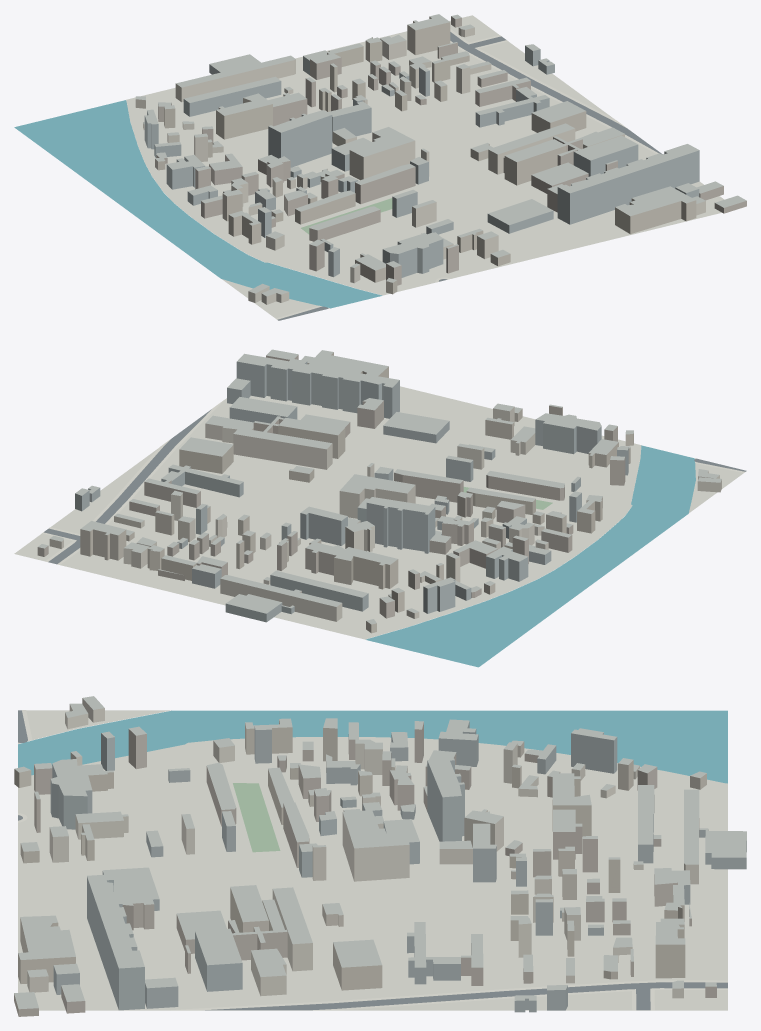
3 renders of one model, top to bottom at view 1: azimuth 30°, elevation 25°; view 2: azimuth 150°, elevation 25°; view 3: azimuth 270°, elevation 25°, orthographic. The views are drawn at different scales.
Parts seen in each view (by area): view 1: city; view 2: city; view 3: city.
Boxes of the visible parts, <box> form: city: <box>14,14,746,320</box>; city: <box>14,349,746,667</box>; city: <box>14,696,746,1016</box>.
Bounding box in the file's own units: 513 × 40.38 × 516.
